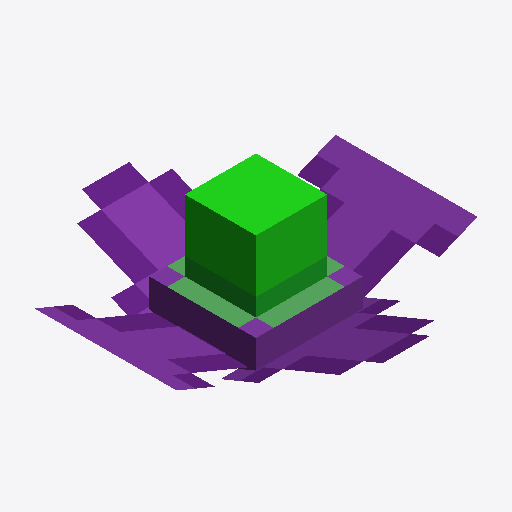
Isometric view (azimuth 45°, elevation 35.3°) of a Minecraft model made of 6 cuboids, textured from the same repository.
Parts seen in each view (by area): leaf (×4), bud, stem.
Part boxes in pixels (x1,y1,x2,y2): leaf (×4): (35, 135, 476, 389); bud: (185, 154, 326, 316); stem: (149, 256, 362, 370).
Size of the model in its own units: 16.93 by 6 by 16.93.